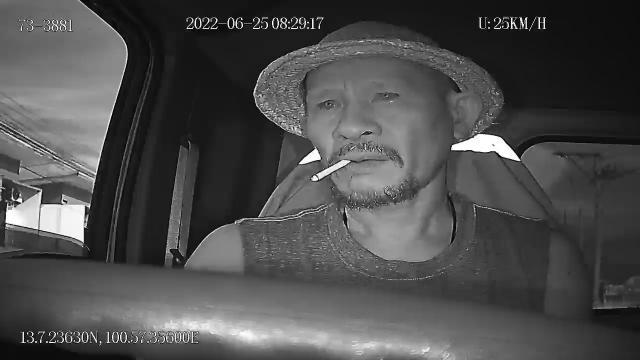SafeDriving: (368, 81, 408, 109), (312, 90, 348, 115)
Smoking: (312, 157, 352, 185)
